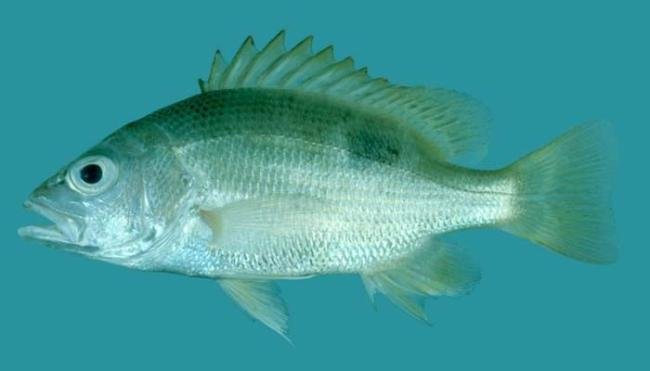fish: (16, 30, 623, 348)
